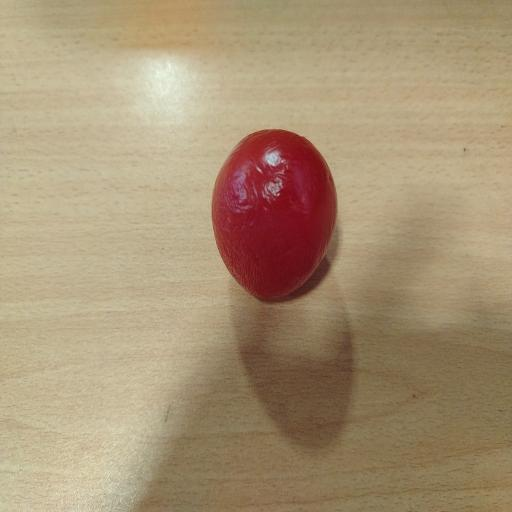spoiled: (212, 130, 337, 298)
